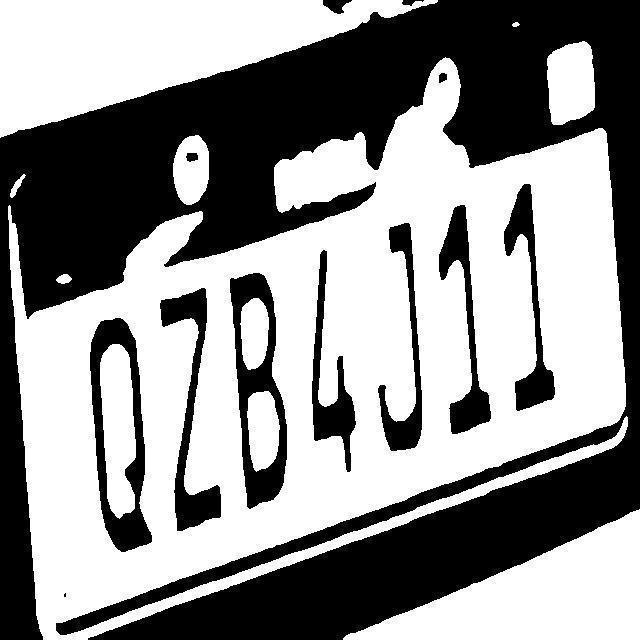1: (434, 193, 497, 452), (500, 172, 564, 418)
4: (299, 239, 367, 486)
b: (226, 256, 294, 512)
j: (368, 215, 432, 472)
q: (82, 300, 155, 550)
z: (158, 276, 226, 534)
